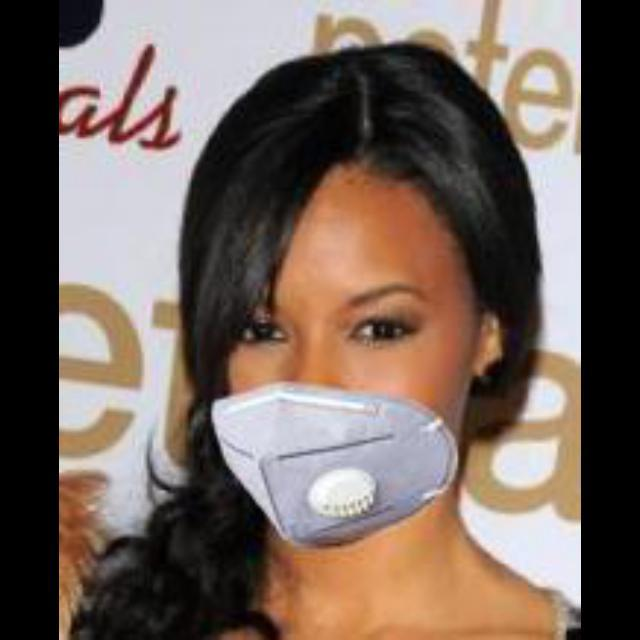suspicion: (196, 105, 518, 551)
